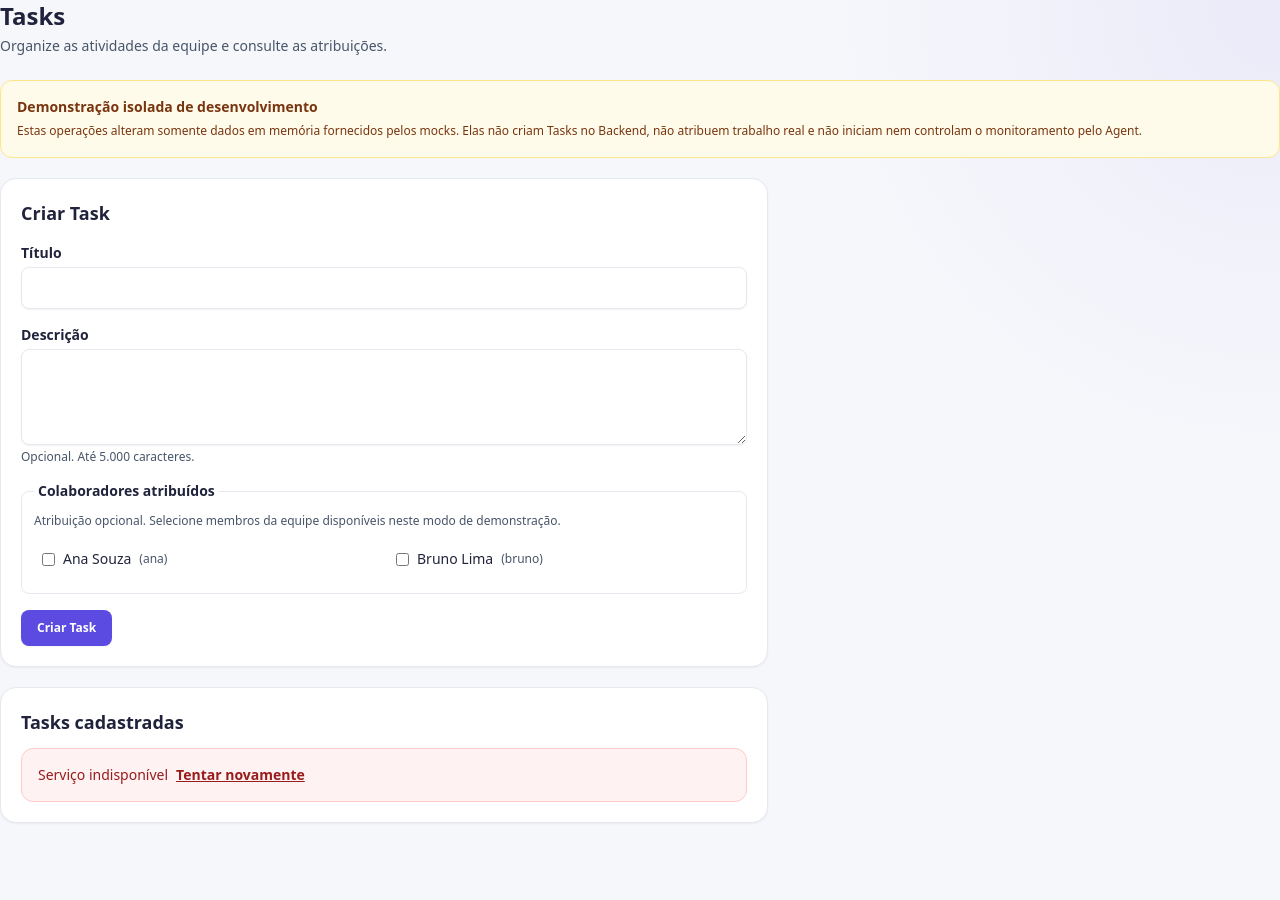
Test: TasksPage › mostra erro ao falhar a lista e oferece retry
This screenshot has width=1280, height=900.
Expected: the text "Serviço indisponível" is shown, [38,765,168,784]
Click the button "Tentar novamente". click: x=240, y=775
box: [176,765,305,785]
(page scrolled)
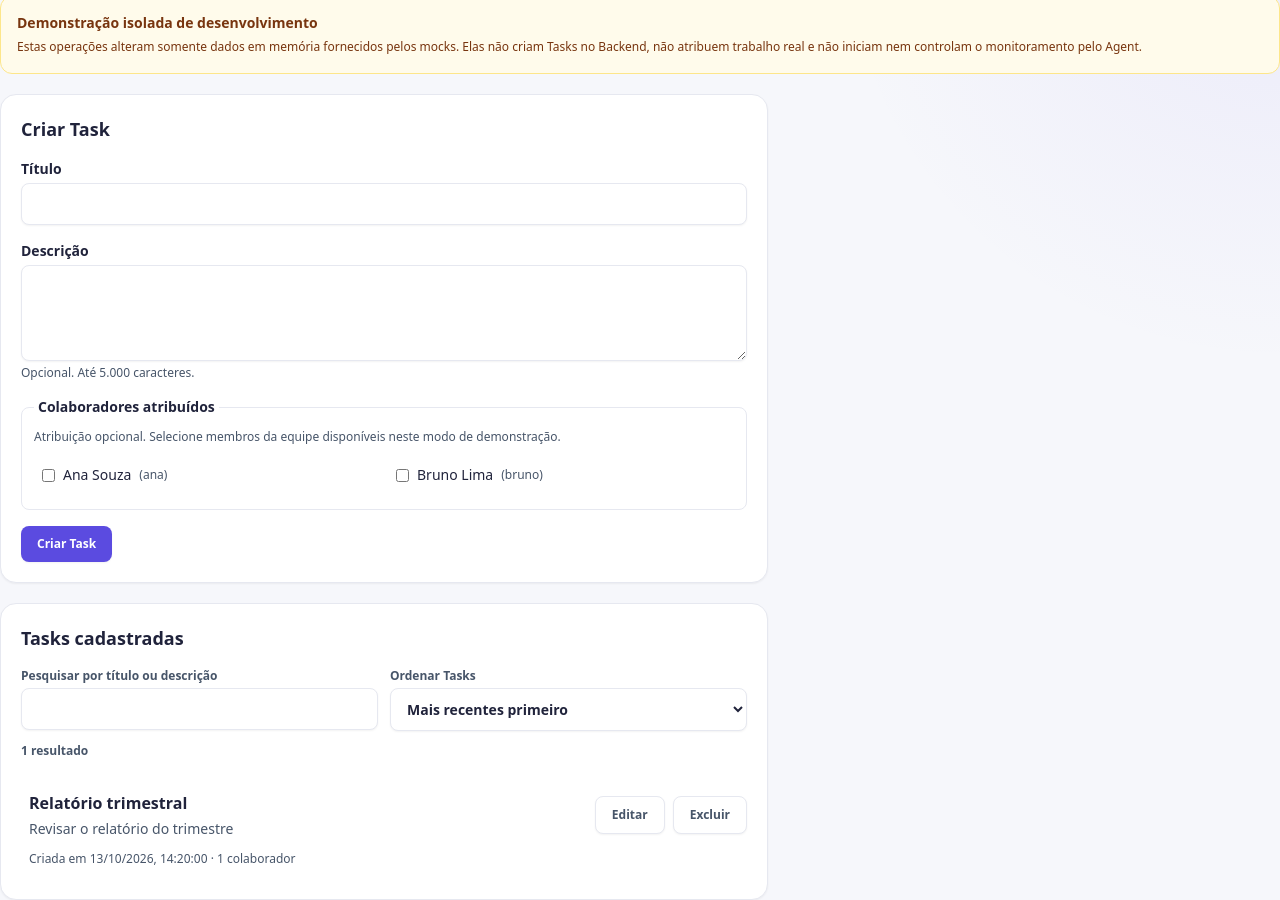
Now the button with aria-label "Ver detalhes da Task: Relatório trimestral" is shown, box [21,783,587,847]
